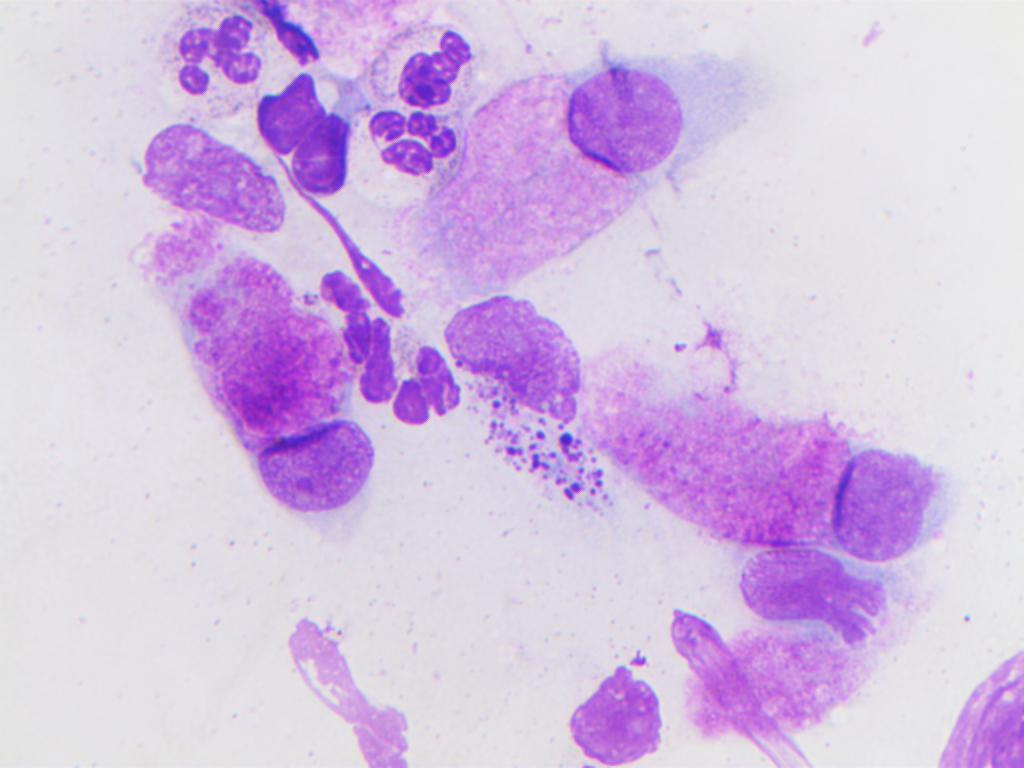ciliated: (739, 528, 901, 656)
epithelial: (532, 649, 669, 767)
goblet_cell: (594, 349, 960, 562), (403, 63, 704, 288), (190, 263, 377, 533)
lymphocyte: (241, 66, 329, 158), (287, 112, 353, 196)
neutrophil: (341, 294, 463, 436), (159, 7, 264, 117), (364, 19, 479, 113), (365, 104, 464, 188)
